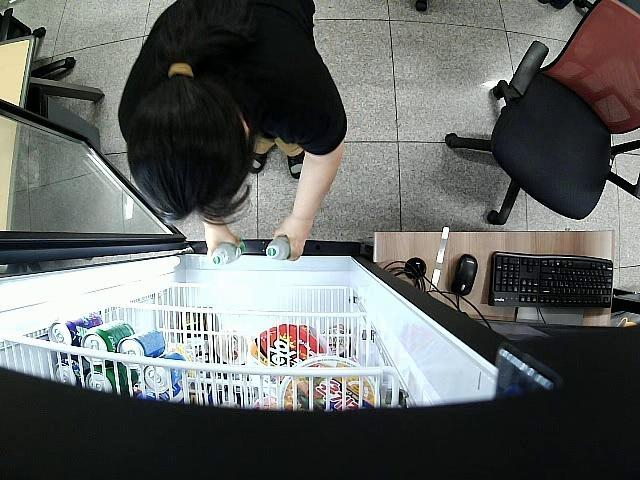18_trevi: (208, 241, 244, 266), (266, 233, 291, 260)
